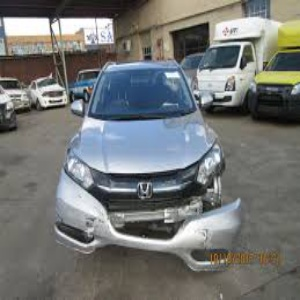bumper: (73, 193, 257, 254)
